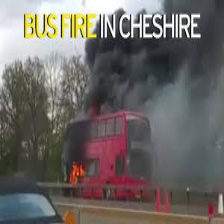smoke: (92, 41, 213, 103)
